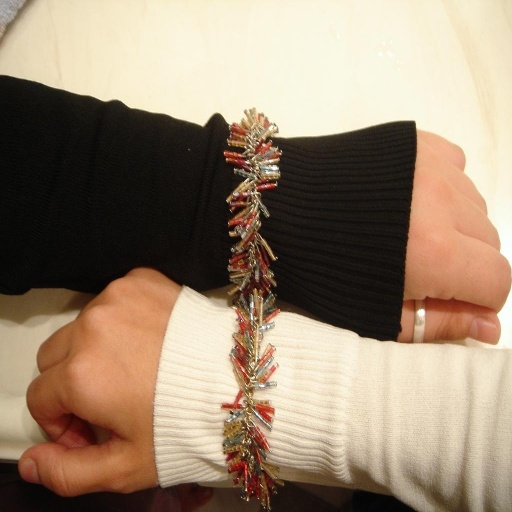hand: (8, 274, 185, 504), (400, 126, 511, 341)
